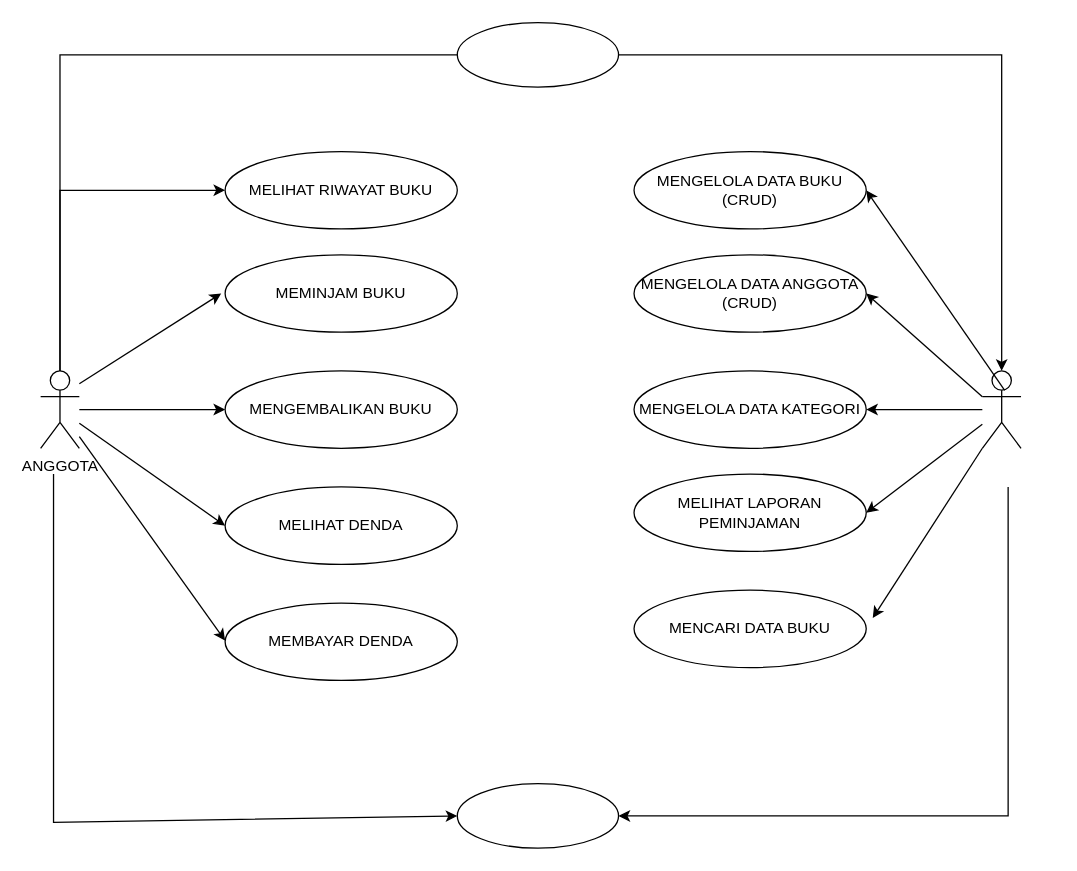
This 1077x871 diagram has some shape labels left out. The centre of each missing label's shape, as x and y in pixels:
"LOGIN" goes at point 537,54.
"LOGOUT" goes at point 537,815.
"PUSTAKAWAN" goes at point 1001,409.
